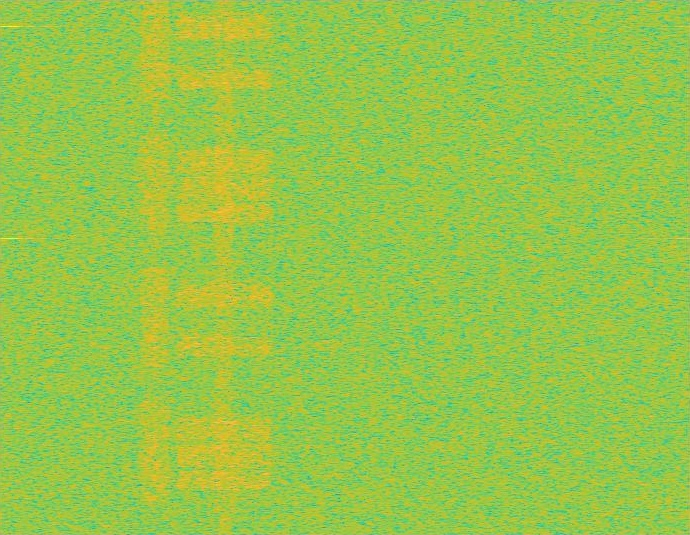5G: (138, 0, 173, 534)
DSSS: (213, 0, 236, 534), (153, 0, 158, 534)
LTE: (173, 0, 276, 534)
Radar: (3, 0, 17, 534)
